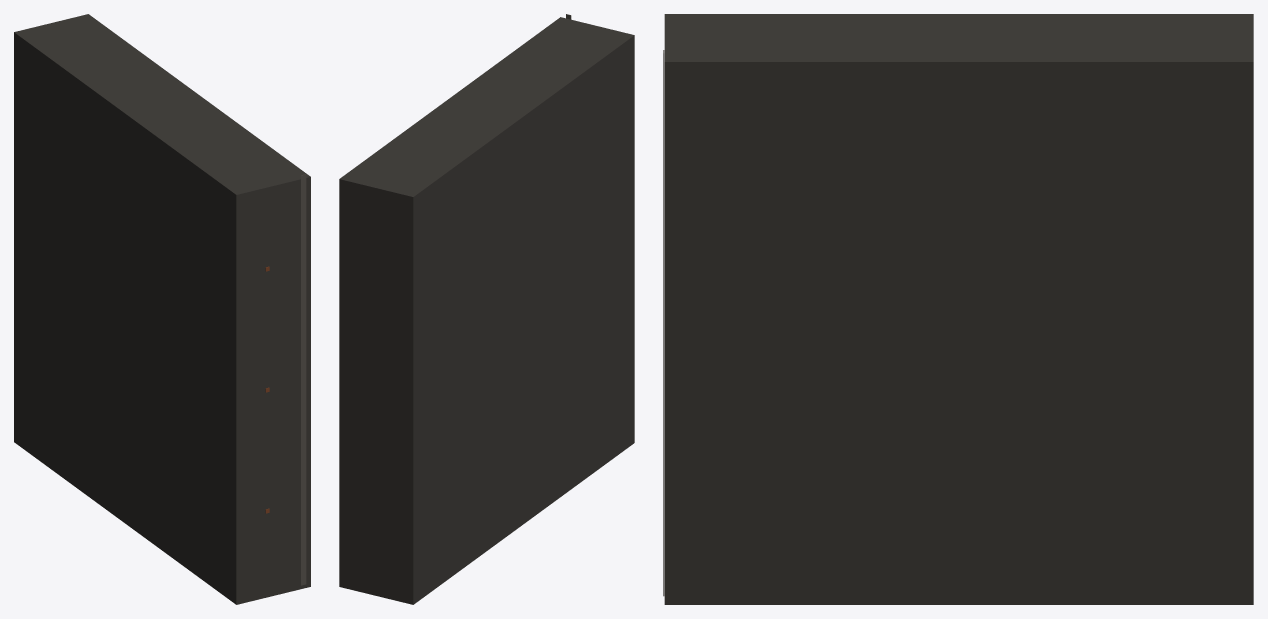
The model's file is shelter_living_concrete_normal_left.glb.
3 renders of one model, left to right at view 1: azimuth 30°, elevation 25°; view 2: azimuth 150°, elevation 25°; view 3: azimuth 270°, elevation 25°, orthographic. The views are drawn at different scales.
Visible parts, largest first — view 1: shelter_living_concrete_normal_left; view 2: shelter_living_concrete_normal_left; view 3: shelter_living_concrete_normal_left.
Boxes of the visible parts, x1,y1,x2,y2 form: shelter_living_concrete_normal_left: (14,14,310,604); shelter_living_concrete_normal_left: (339,14,634,604); shelter_living_concrete_normal_left: (663,14,1253,604).
Size of the model in its own units: 0.58 by 3.08 by 3.01.
Materials: 1 (1 with a texture image).
